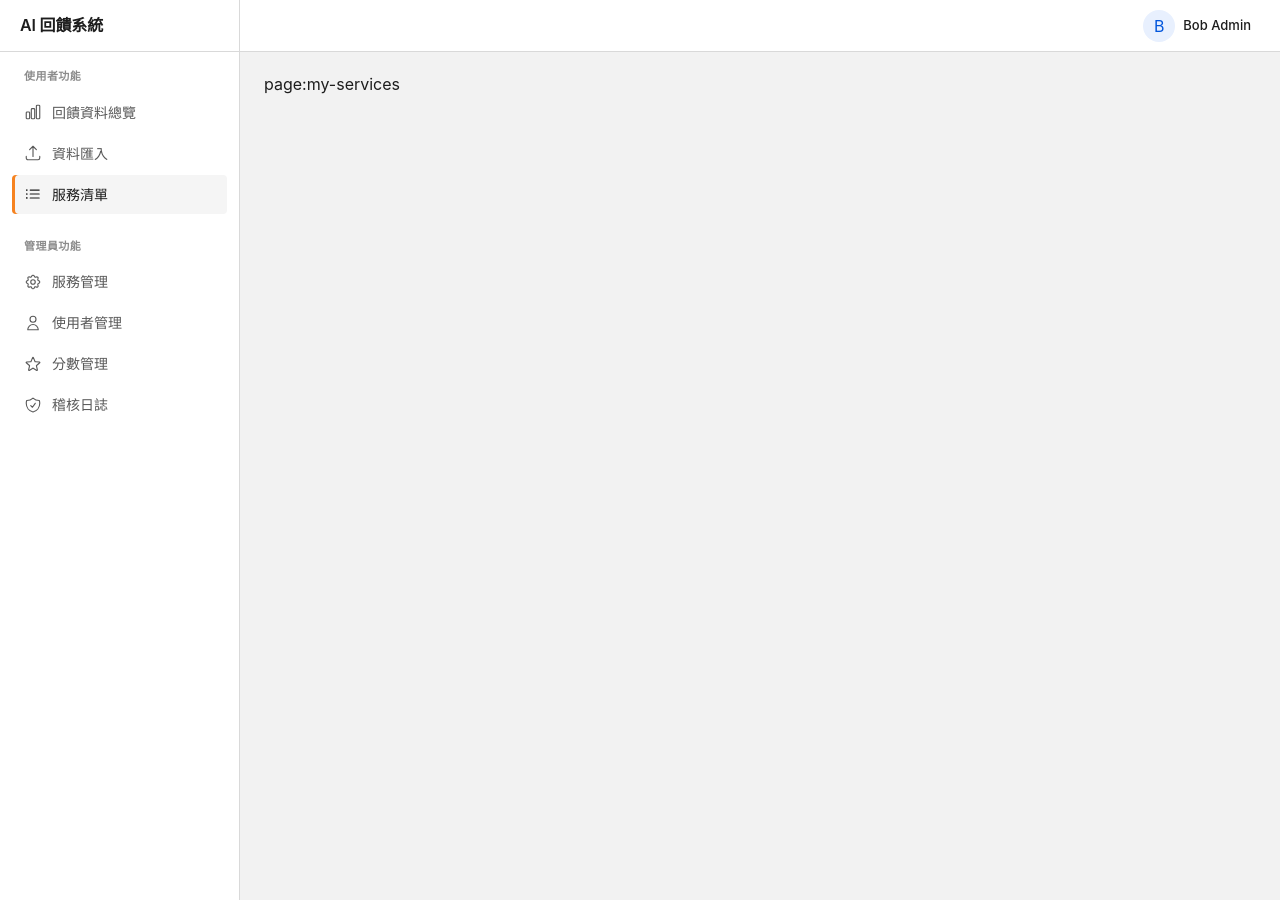
Test: Layout account menu › marks a system admin in the menu
Click the button "B Bob Admin".
click(1199, 26)  # box [1138, 4, 1260, 46]
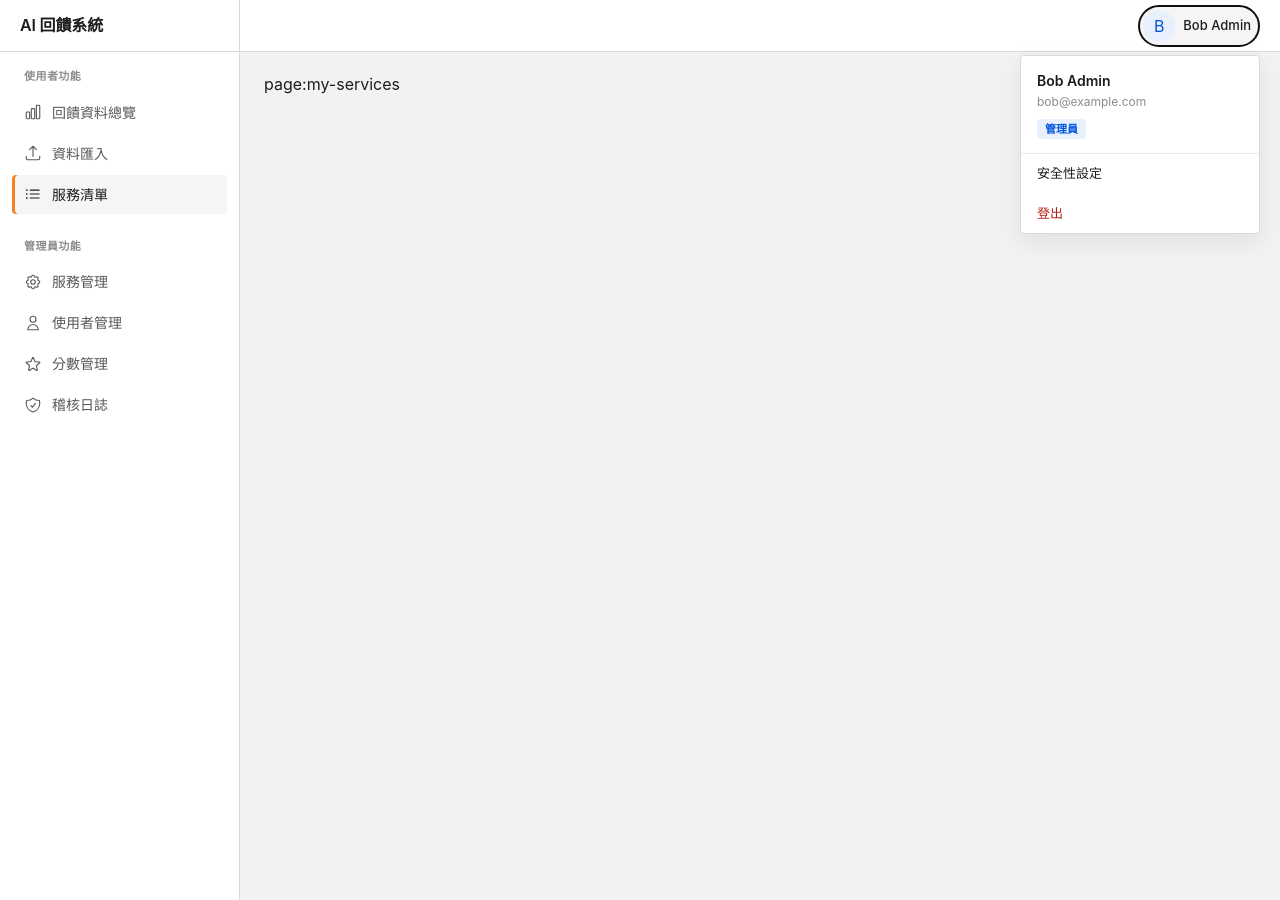
Check: the text "管理員" is shown, box [1037, 118, 1086, 139]
